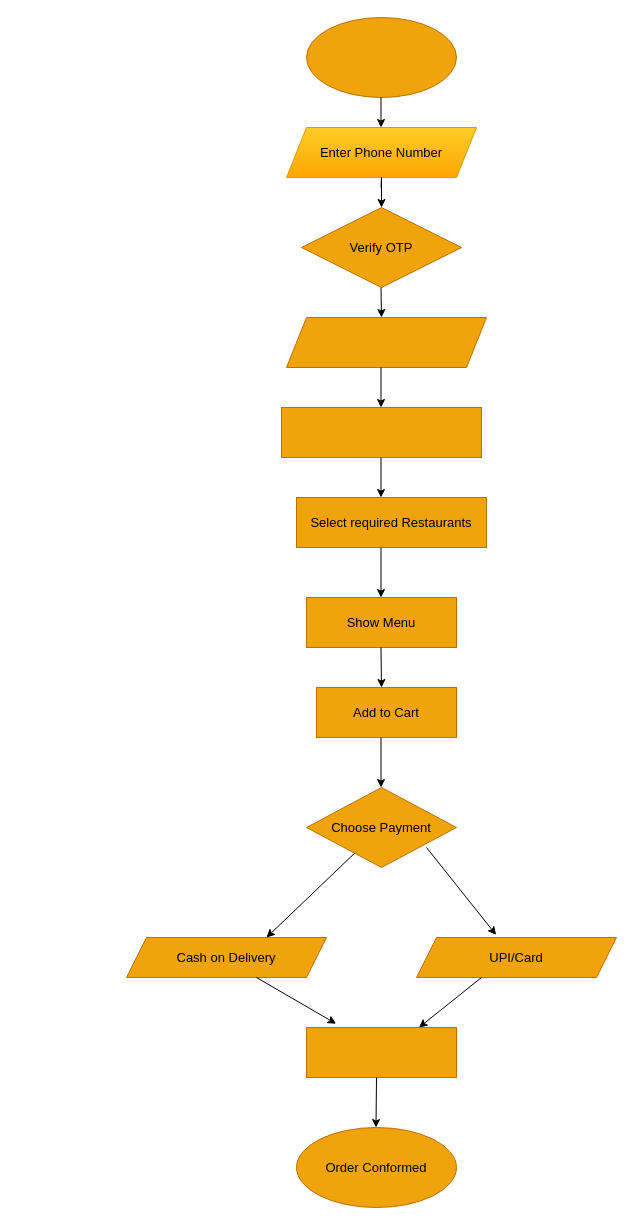
The diagram is 634 pixels wide and 1225 high, and some of its shapes have lost their labels. Each missing label, with the centre of its shape:
Enter Address: point 386,342
Place Order: point 381,1052
Show Nearby Restaurants: point 381,432
User opens App: point 381,57
